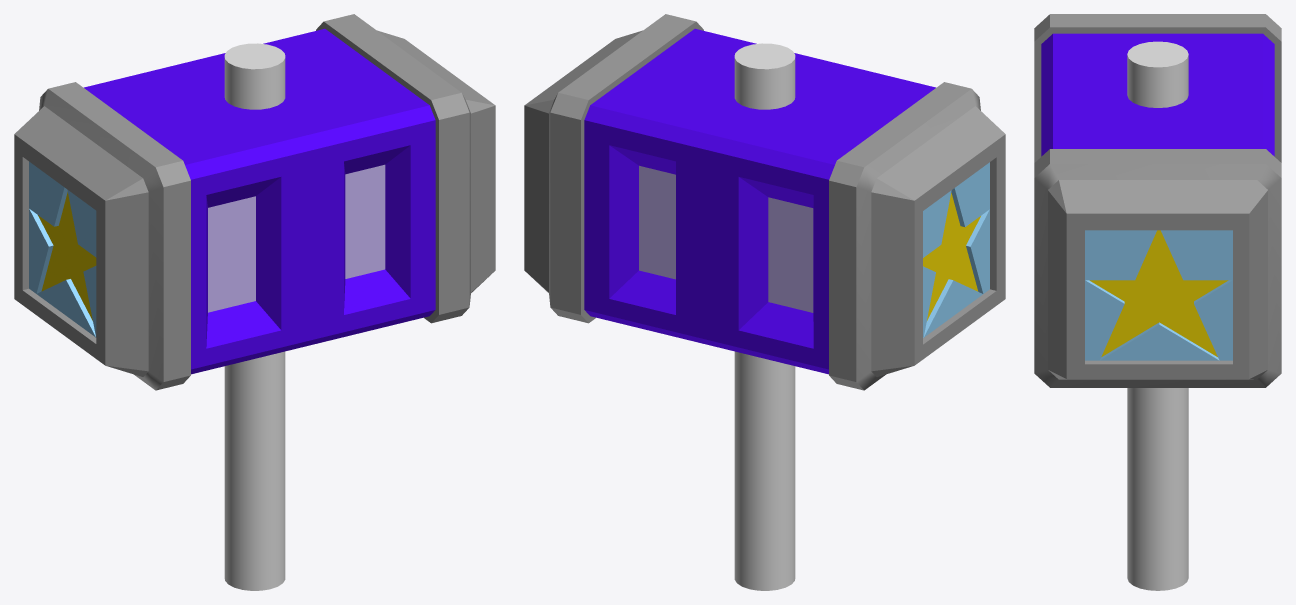
File: hammer_graphic.fbx
3 renders of one model, left to right at view 1: azimuth 30°, elevation 25°; view 2: azimuth 150°, elevation 25°; view 3: azimuth 270°, elevation 25°, orthographic.
Visible parts, largest first — view 1: pCube1, pCylinder1; view 2: pCube1, pCylinder1; view 3: pCube1, pCylinder1.
Part boxes in pixels (box(x1,y1,x2,y2)): pCube1: box(14, 14, 495, 390); pCylinder1: box(224, 43, 285, 590); pCube1: box(524, 14, 1005, 390); pCylinder1: box(734, 43, 795, 590); pCube1: box(1034, 14, 1281, 387); pCylinder1: box(1127, 41, 1188, 590).
Size of the model in its own units: 476 by 608 by 260.
